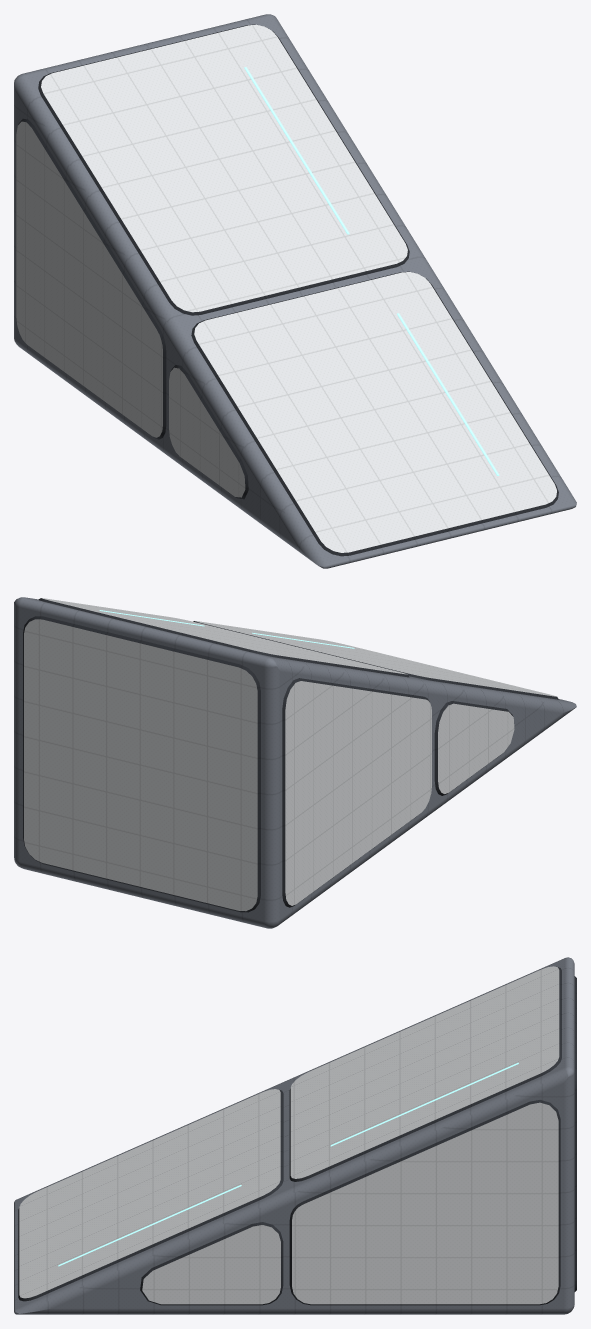
Rendered from R4B_LongWedge.glb.
3 renders of one model, top to bottom at view 1: azimuth 30°, elevation 25°; view 2: azimuth 150°, elevation 25°; view 3: azimuth 270°, elevation 25°, orthographic. The views are drawn at different scales.
Parts seen in each view (by area): view 1: R4B_LongWedge; view 2: R4B_LongWedge; view 3: R4B_LongWedge.
Part boxes in pixels (x1,y1,x2,y2): R4B_LongWedge: (14, 14, 576, 568); R4B_LongWedge: (14, 597, 576, 928); R4B_LongWedge: (14, 957, 576, 1314).
Bounding box in the file's own units: 0.52 × 0.5061 × 1.04.
Materials: 4 (3 with a texture image).
